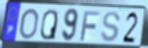2: (122, 11, 139, 44)
9: (60, 8, 79, 44)
F: (79, 10, 102, 43)
O: (18, 7, 40, 40)
Q: (40, 9, 59, 41)
S: (100, 11, 122, 44)
